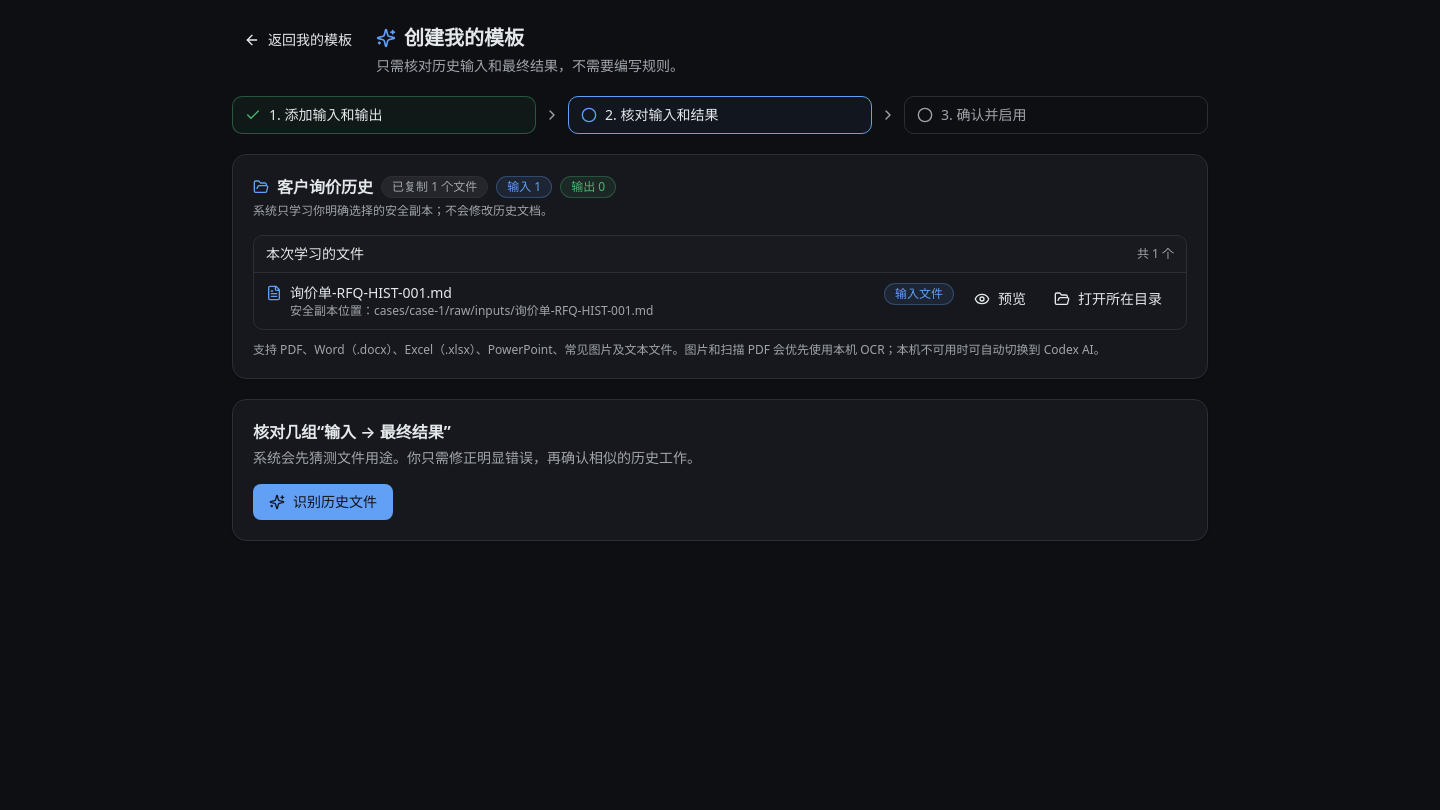
MyTemplateSetupWizard › previews a copied Markdown file in a modal without leaving the wizard
Click the button with aria-label "预览文件：询价单-RFQ-HIST-001.md": [1000, 299] box [962,283,1038,315]
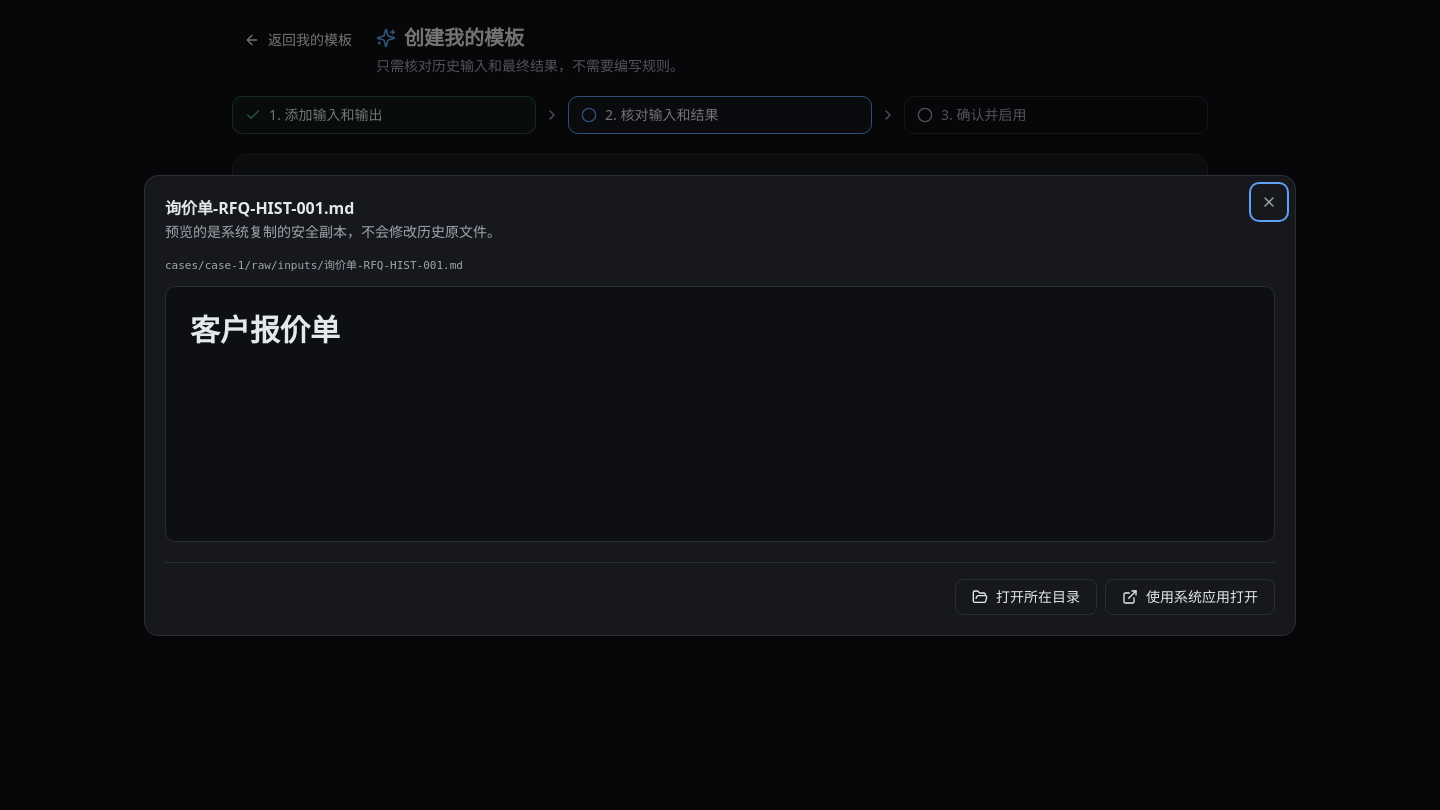
expect the dialog "询价单-RFQ-HIST-001.md" is shown: met, box [144,174,1296,636]
expect the heading "客户报价单" is shown: met, box [190,309,340,350]
